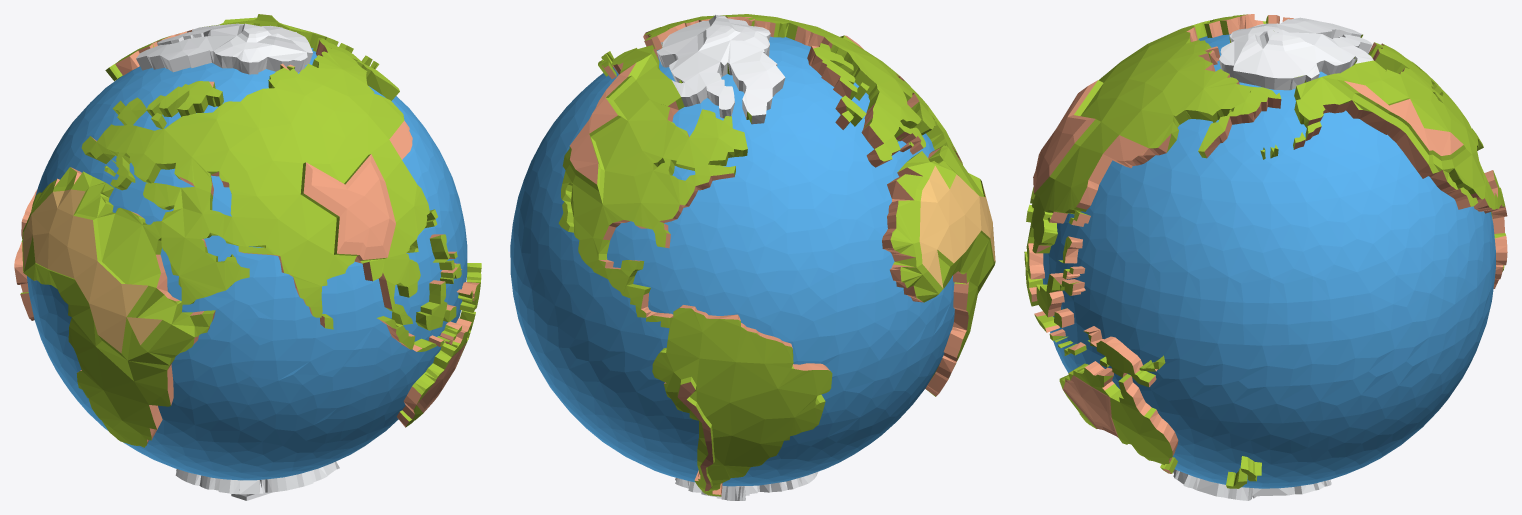
Rendered from pony.gltf.
3 renders of one model, left to right at view 1: azimuth 30°, elevation 25°; view 2: azimuth 150°, elevation 25°; view 3: azimuth 270°, elevation 25°, orthographic. The views are drawn at different scales.
Visible parts, largest first — view 1: Object_Planet_0; view 2: Object_Planet_0; view 3: Object_Planet_0.
Boxes of the visible parts, box(x1,y1,x2,y2) form: Object_Planet_0: box(14, 14, 481, 500); Object_Planet_0: box(510, 14, 995, 500); Object_Planet_0: box(1024, 14, 1507, 500).
Size of the model in its own units: 2.09 by 2.23 by 2.09.
Materials: 1 (1 with a texture image).
